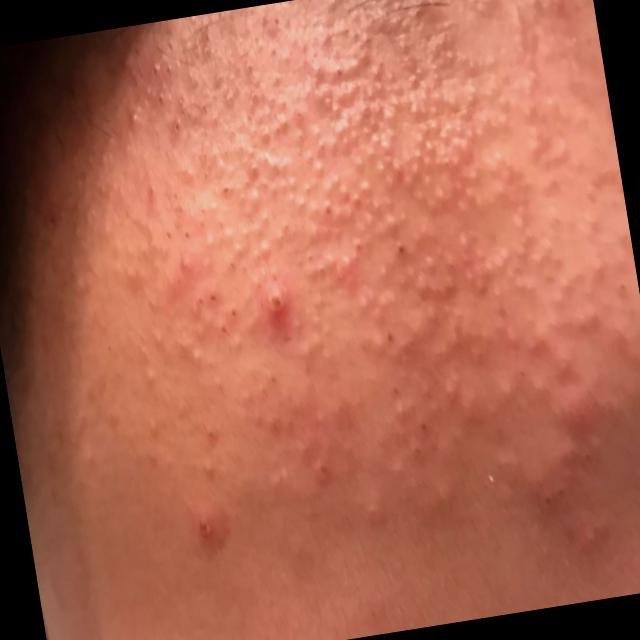fungal: (286, 0, 640, 582), (97, 29, 366, 618)
